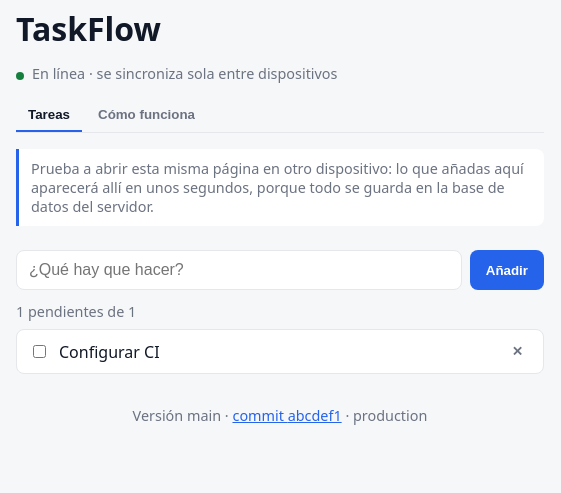
Test: App › añade una tarea nueva
expect the text "Configurar CI" is shown: met, box top-left (59, 341), bottom-right (160, 363)
Type "Desplegar a prod" into the field named "Nueva tarea". click: (239, 270)
box: top-left (16, 250), bottom-right (462, 290)
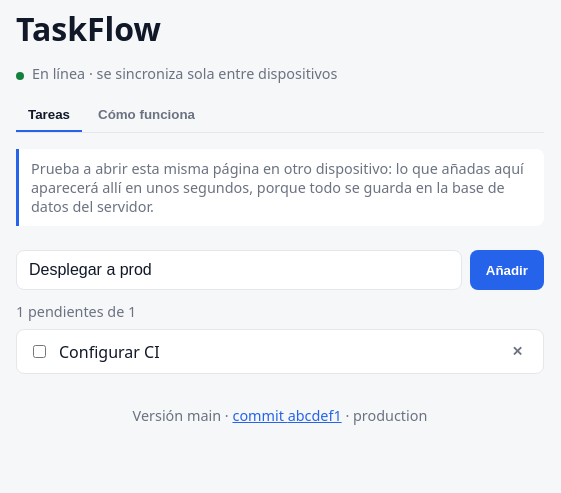
Click the button "Añadir". click: (507, 270)
box: top-left (470, 250), bottom-right (544, 290)
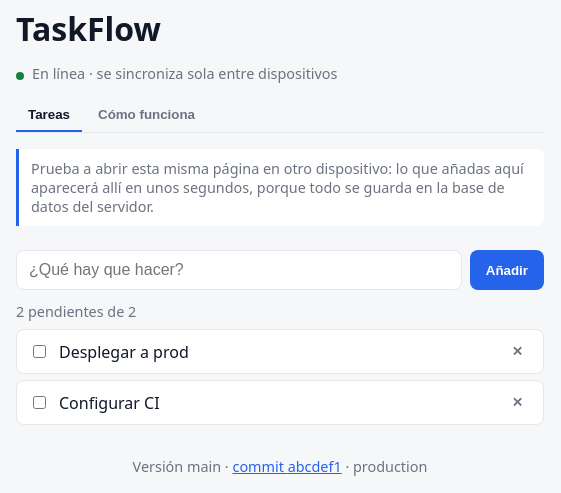
expect the text "Desplegar a prod" is shown: met, box top-left (59, 341), bottom-right (189, 363)
